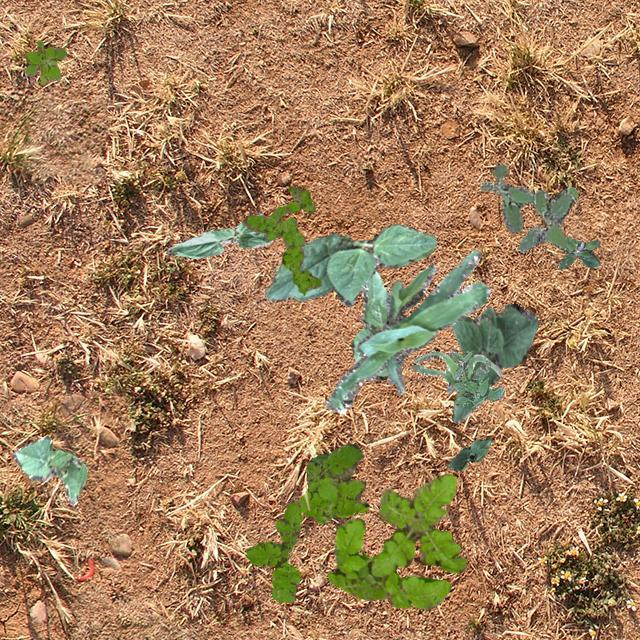crop: (324, 248, 488, 412), (264, 224, 436, 306), (450, 302, 538, 422), (12, 434, 86, 504), (350, 268, 388, 381), (411, 350, 502, 392), (166, 222, 272, 258), (446, 436, 490, 469)
weed: (326, 472, 466, 608), (240, 184, 320, 294), (480, 164, 578, 252), (296, 442, 368, 522), (246, 499, 300, 602), (448, 348, 502, 408), (24, 40, 66, 84), (556, 236, 598, 268)
